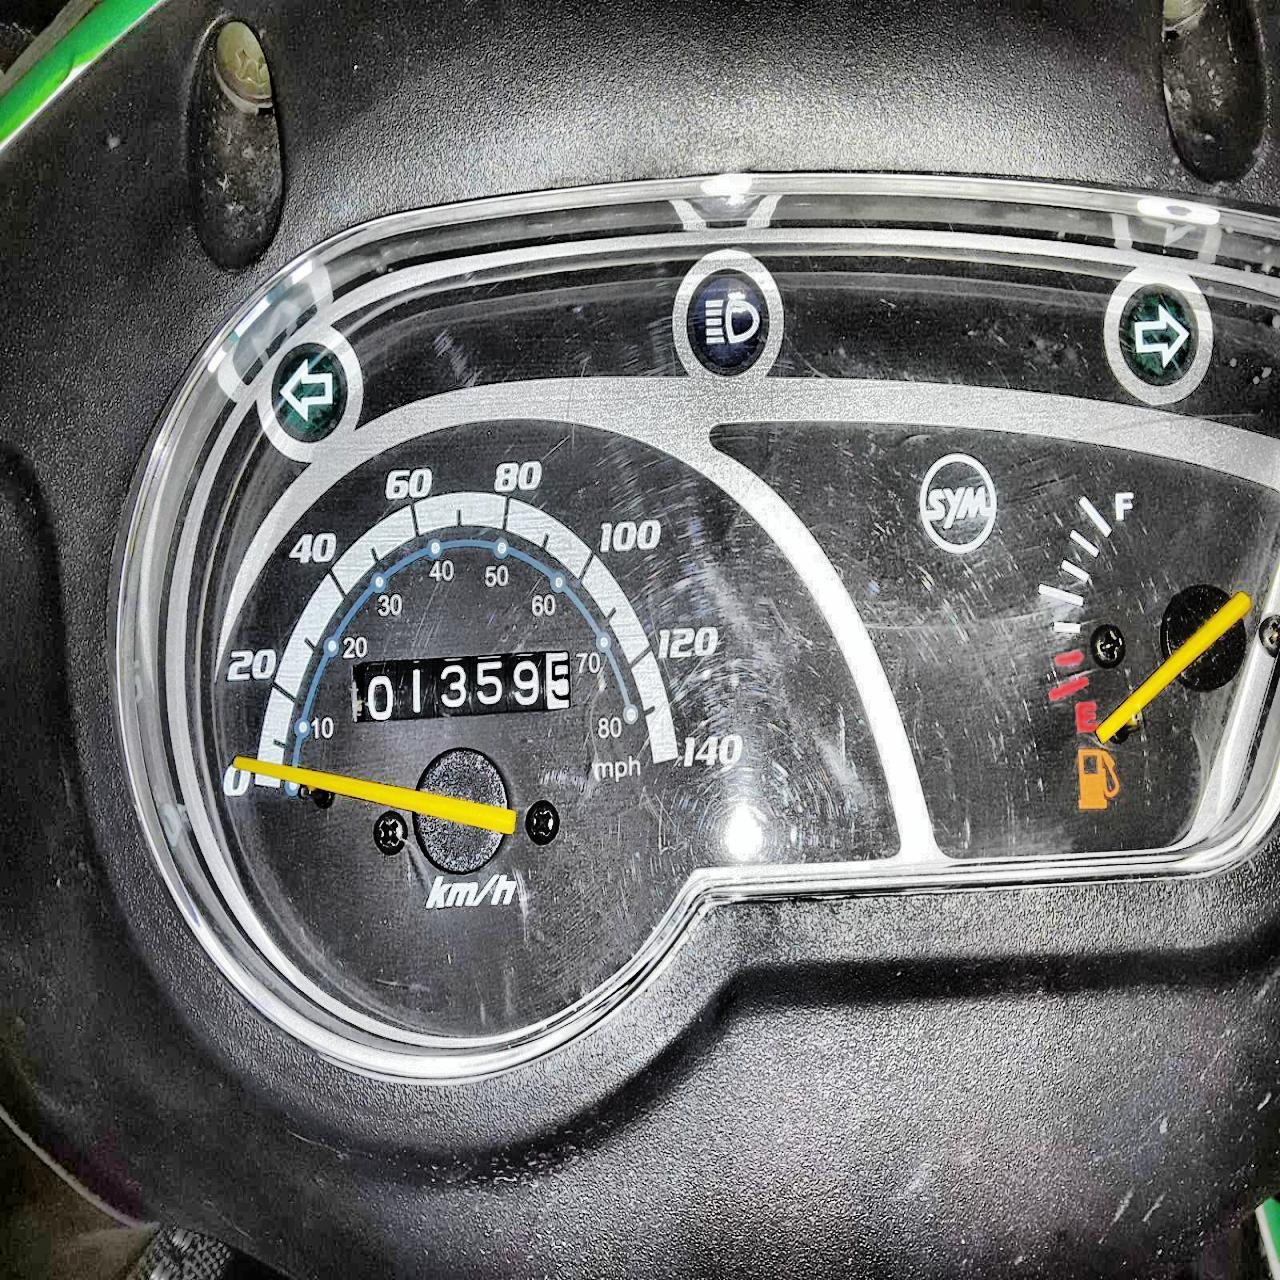0: (363, 668, 395, 721)
1: (408, 662, 425, 713)
3: (438, 661, 468, 712)
5: (475, 660, 504, 708), (547, 658, 573, 708)
9: (511, 658, 538, 704)
odometer: (349, 647, 577, 727)
